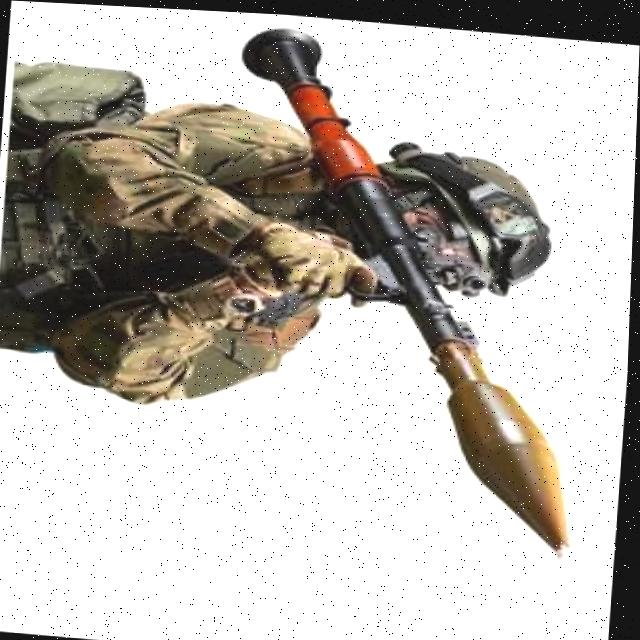rocket: (208, 16, 608, 551)
